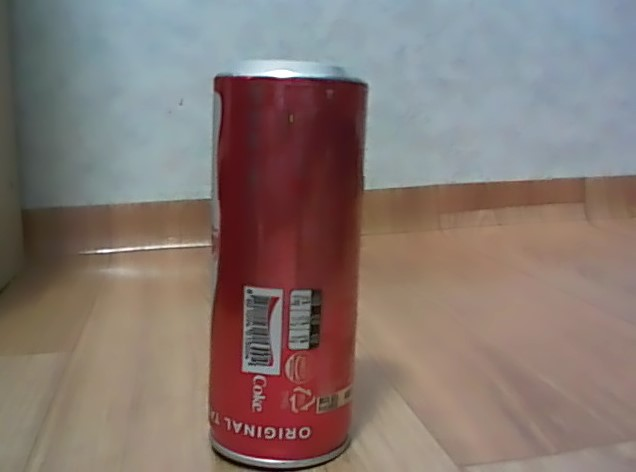Can: (202, 54, 374, 472)
